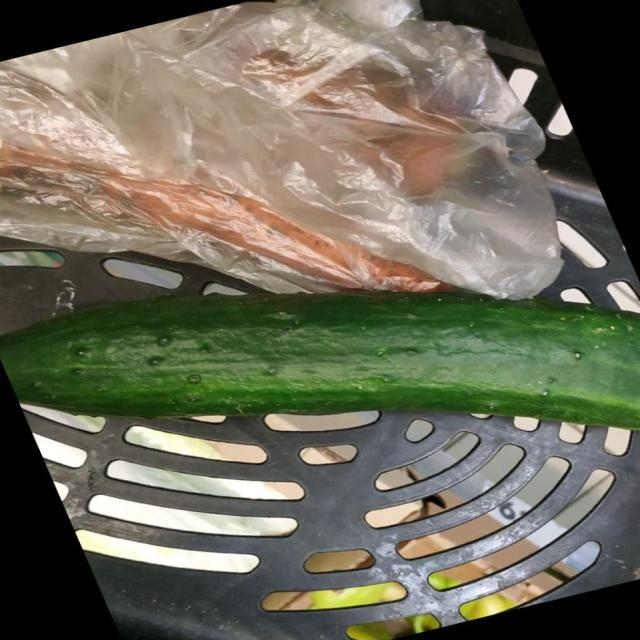Carrot: (99, 170, 443, 292)
Cucumber: (0, 292, 640, 430)
